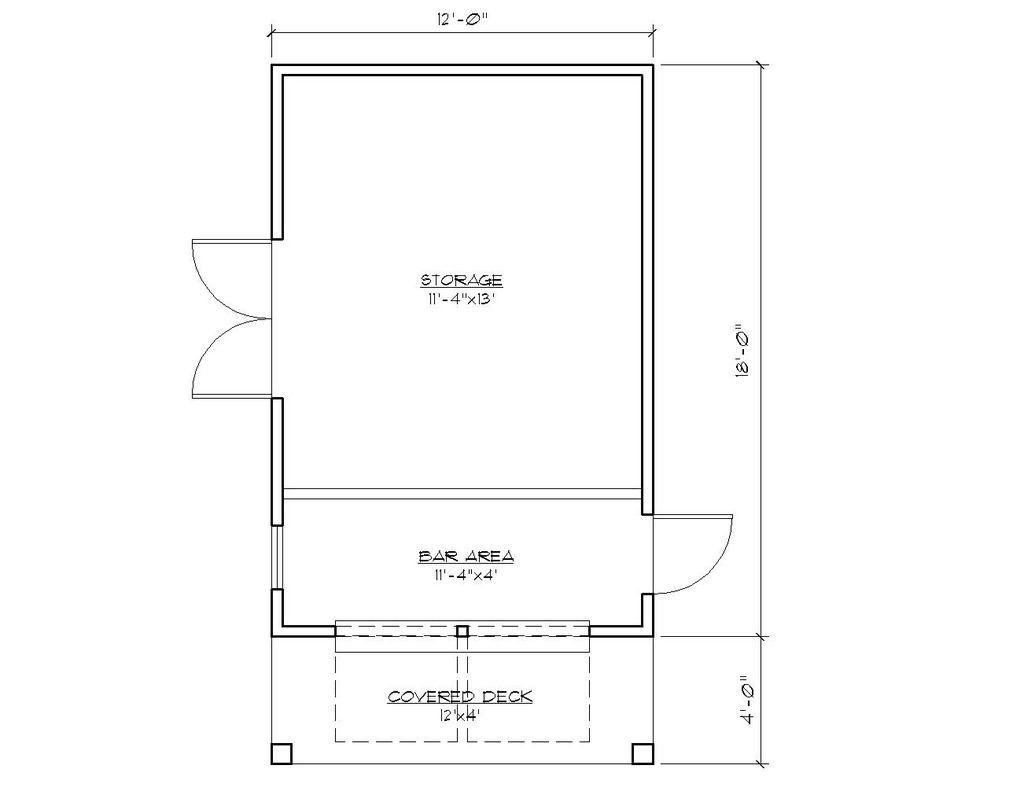door: (185, 236, 278, 403), (645, 510, 736, 592)
windows: (266, 520, 288, 595)
